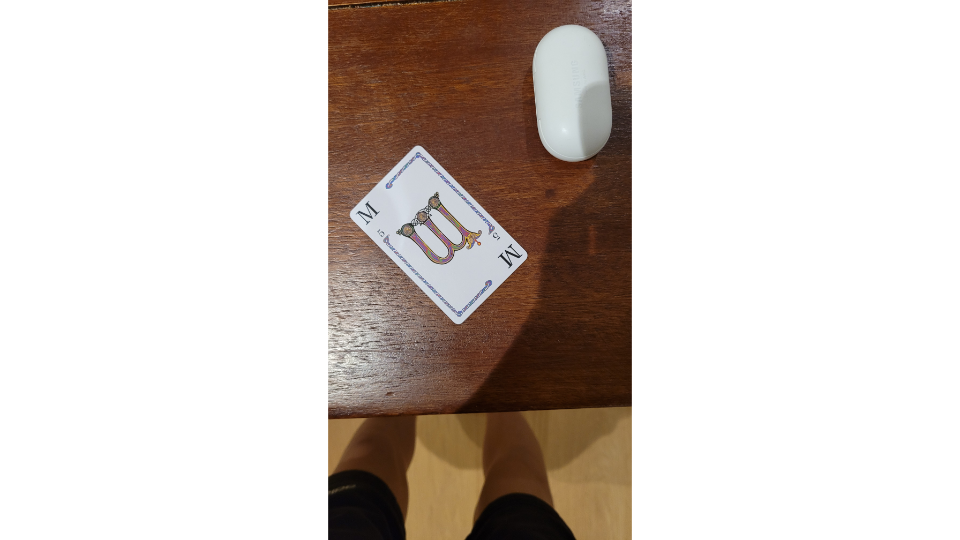M: (347, 142, 532, 327)
